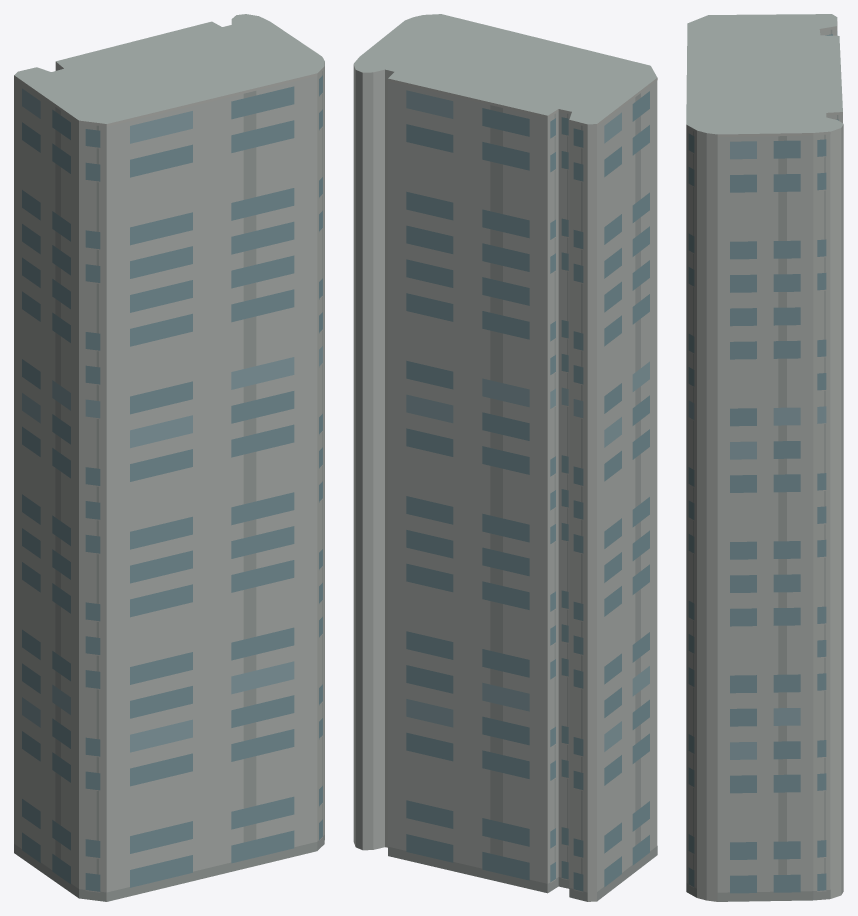
File: survey-upis-32964702.glb
3 views of the same model, side by side, from view 1: azimuth 30°, elevation 25°; view 2: azimuth 150°, elevation 25°; view 3: azimuth 270°, elevation 25° (orthographic).
Visible parts, largest first — view 1: survey-upis-32964702.tmp; view 2: survey-upis-32964702.tmp; view 3: survey-upis-32964702.tmp.
Part boxes in pixels (box(x1,y1,x2,y2)): survey-upis-32964702.tmp: box(14, 14, 324, 901); survey-upis-32964702.tmp: box(353, 14, 657, 901); survey-upis-32964702.tmp: box(686, 14, 843, 901).
Bounding box in the file's own units: 23.62 × 70.15 × 13.06.
